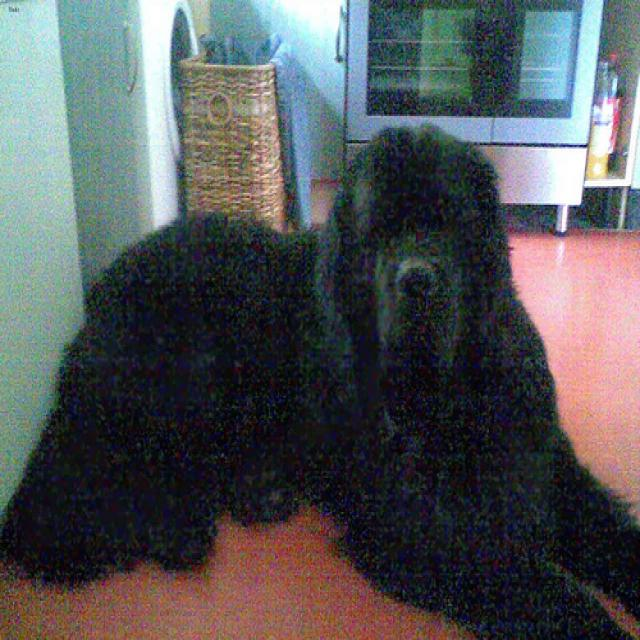dog-newfoundland: (1, 114, 637, 637)
